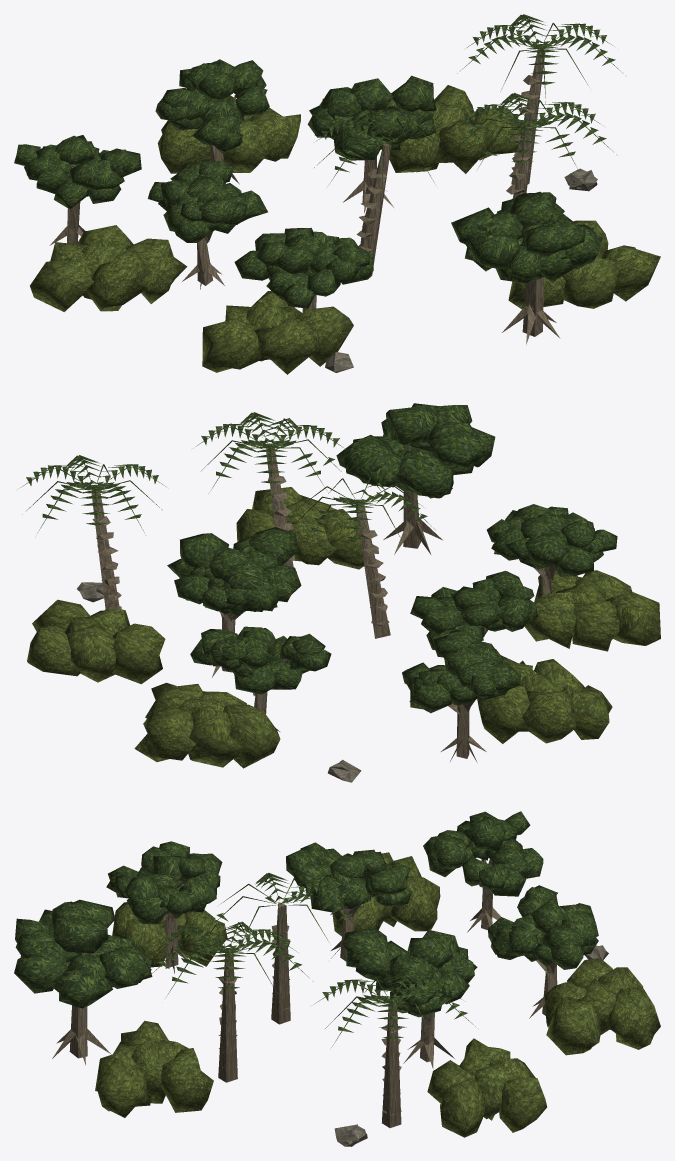
File: jungle_tile_a.gltf
3 renders of one model, top to bottom at view 1: azimuth 30°, elevation 25°; view 2: azimuth 150°, elevation 25°; view 3: azimuth 270°, elevation 25°, orthographic.
Visible parts, largest first — view 1: jungle_tile_a_game; view 2: jungle_tile_a_game; view 3: jungle_tile_a_game.
Boxes of the visible parts, x1,y1,x2,y2 form: jungle_tile_a_game: (14,14,660,374); jungle_tile_a_game: (20,403,660,782); jungle_tile_a_game: (14,811,660,1146).
Bounding box in the file's own units: 1.67 × 0.4353 × 1.58.
4 materials, 4 textured.
